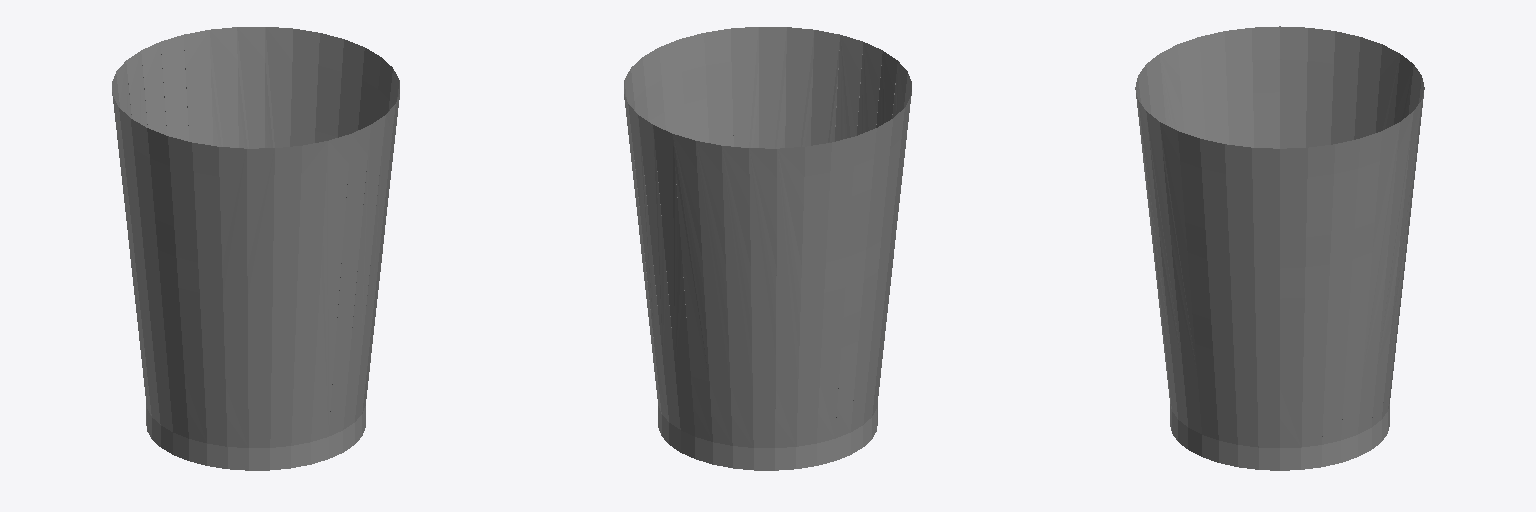
File: rolodex_jumbo_pencil_cup.obj
The picture shows the model from 3 angles: view 1: azimuth 30°, elevation 25°; view 2: azimuth 150°, elevation 25°; view 3: azimuth 270°, elevation 25°; orthographic projection.
Bounding box in the file's own units: 0.1052 × 0.135 × 0.1052.